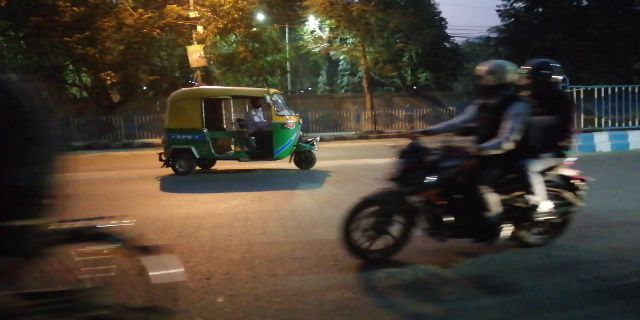Autorickshaw: (157, 85, 318, 175)
Motorbike: (345, 64, 586, 262)
